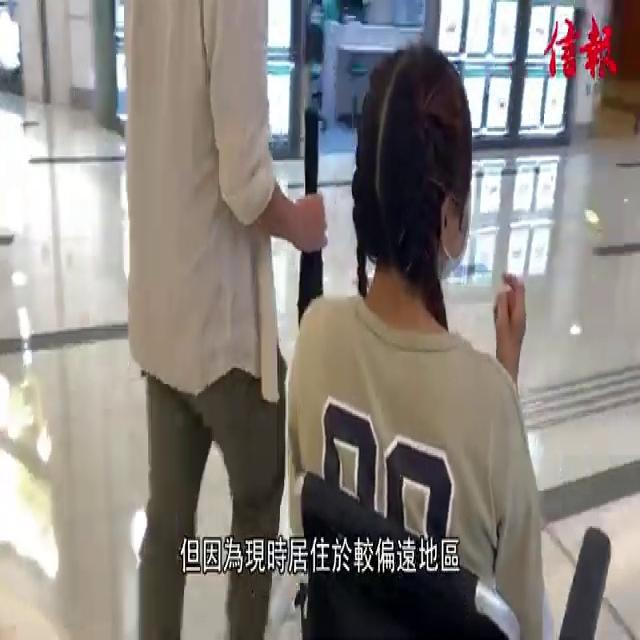wheelchairs: (271, 410, 617, 640)
